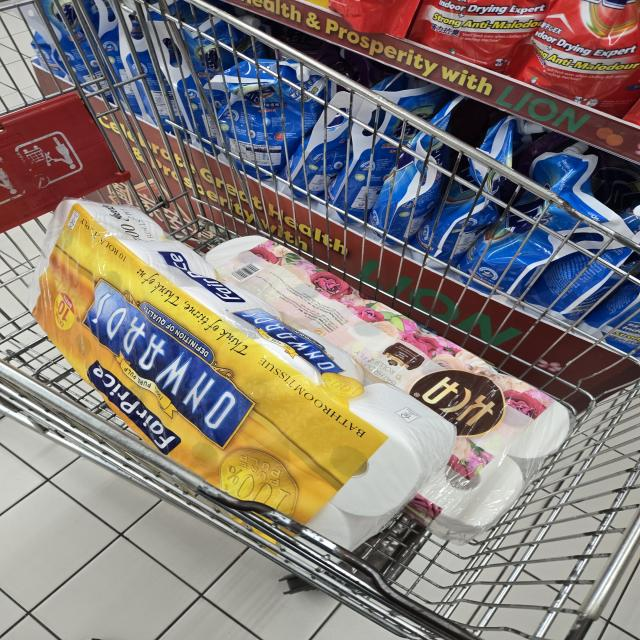toilet-paper: (35, 192, 446, 574), (182, 230, 583, 530)
